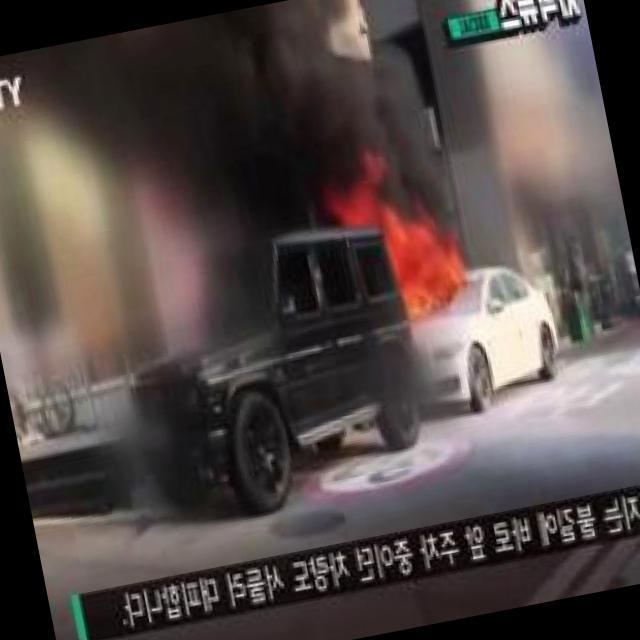Fire: (381, 203, 456, 316)
